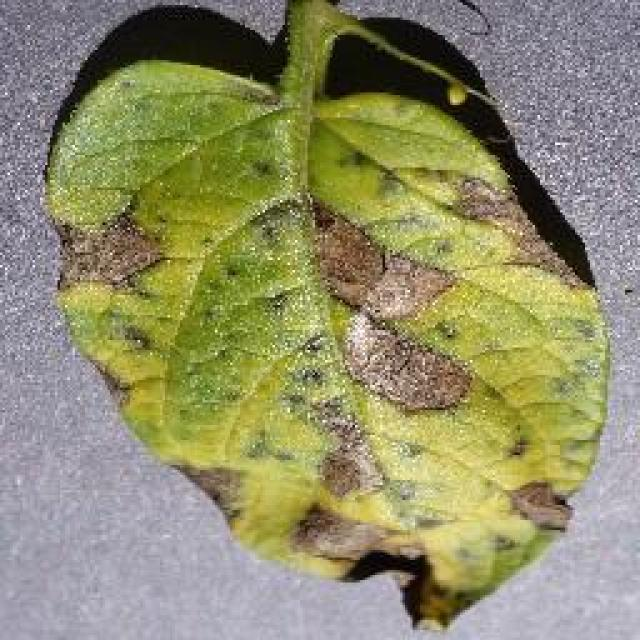Potato___Early_blight: (41, 0, 613, 634)
